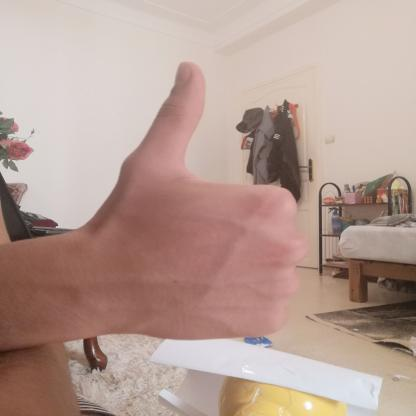ALIF: (78, 48, 330, 357)
